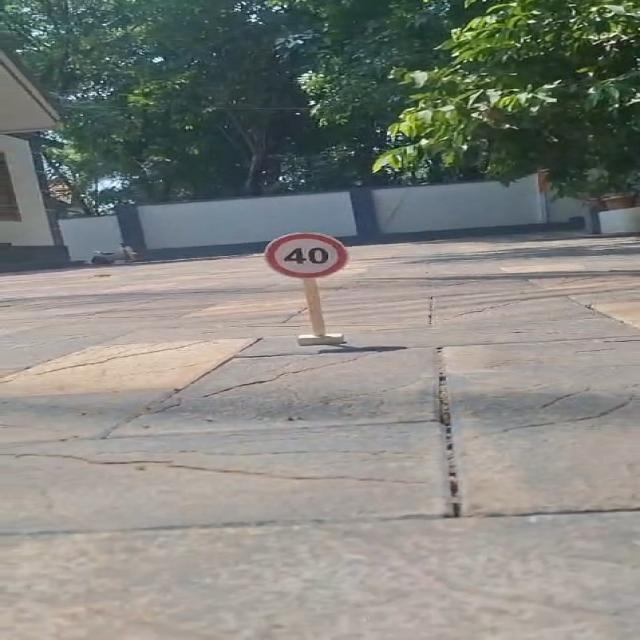Speed40: (263, 230, 351, 280)
